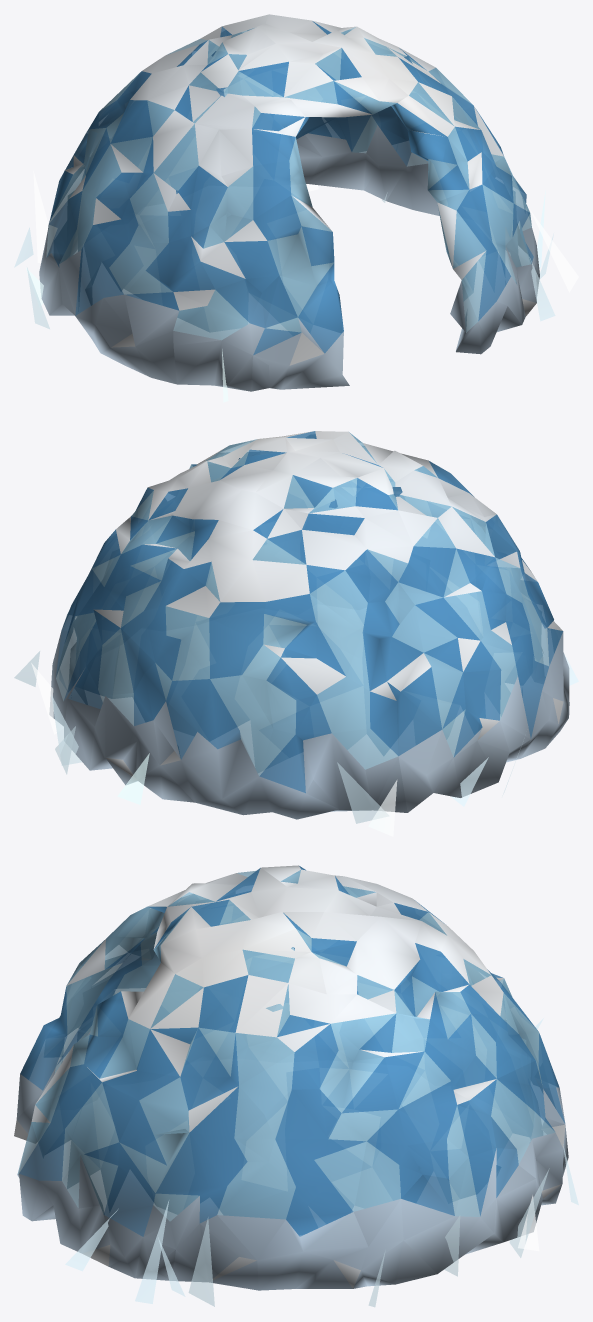
File: frost_rime_dome_lod2.glb
The picture shows the model from 3 angles, top to bottom: view 1: azimuth 30°, elevation 25°; view 2: azimuth 150°, elevation 25°; view 3: azimuth 270°, elevation 25°; orthographic projection. The views are drawn at different scales.
Parts seen in each view (by area): view 1: frost_rime_dome.001; view 2: frost_rime_dome.001; view 3: frost_rime_dome.001.
Part boxes in pixels (<box>): frost_rime_dome.001: <box>14,14,578,402</box>; frost_rime_dome.001: <box>14,431,578,836</box>; frost_rime_dome.001: <box>14,865,578,1307</box>.
Size of the model in its own units: 35.84 by 18.27 by 32.17.
